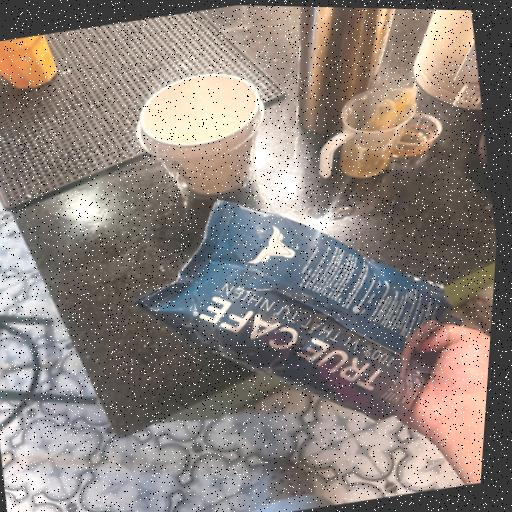cafe_hat: (103, 129, 504, 474)
